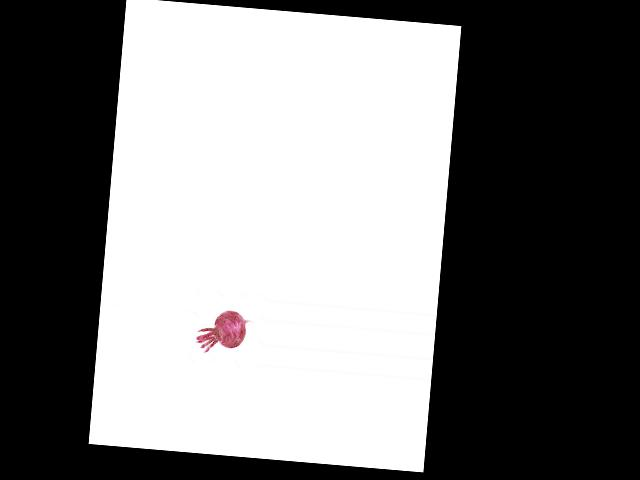beet: (195, 307, 254, 356)
